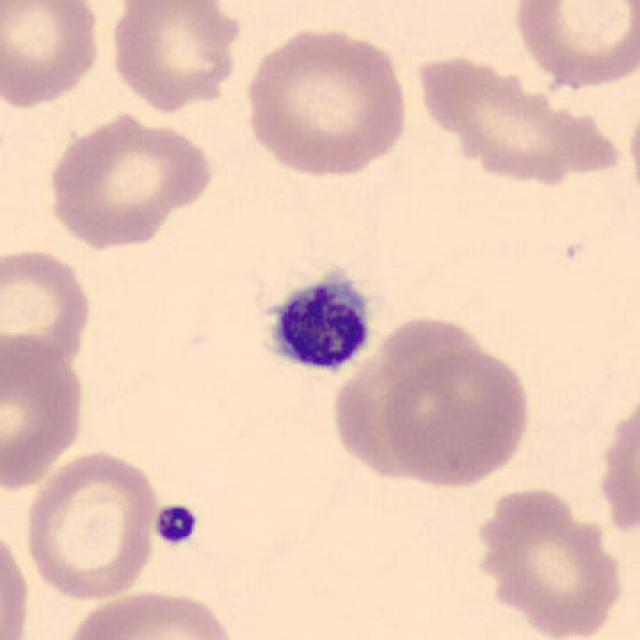Platelets: (248, 259, 383, 386), (151, 501, 201, 548)
RBC: (409, 57, 630, 186), (238, 21, 414, 180), (334, 314, 500, 481), (459, 483, 631, 640), (41, 107, 217, 250), (379, 342, 535, 490), (20, 448, 162, 603), (105, 0, 243, 115), (0, 328, 91, 494), (0, 242, 96, 378), (508, 0, 638, 92), (0, 0, 105, 111), (58, 585, 242, 640), (0, 520, 32, 638), (626, 85, 640, 222)
